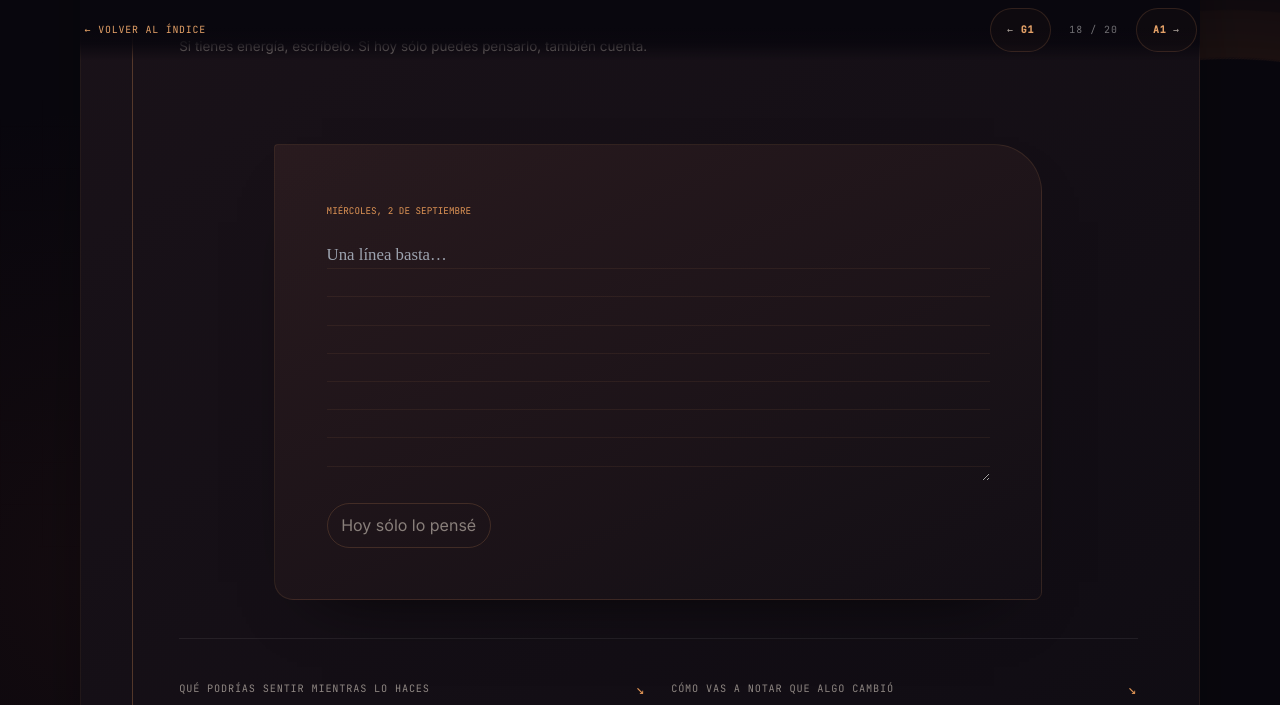
Scenario: cuaderno de trabajo › guarda una respuesta pendiente antes de cambiar de ejercicio
This screenshot has width=1280, height=705.
(page scrolled)
Step 1. Type "No perder esta idea" into the text box named "¿Qué necesito recordar de hoy?" → (658, 361), box 327,241 -> 990,481
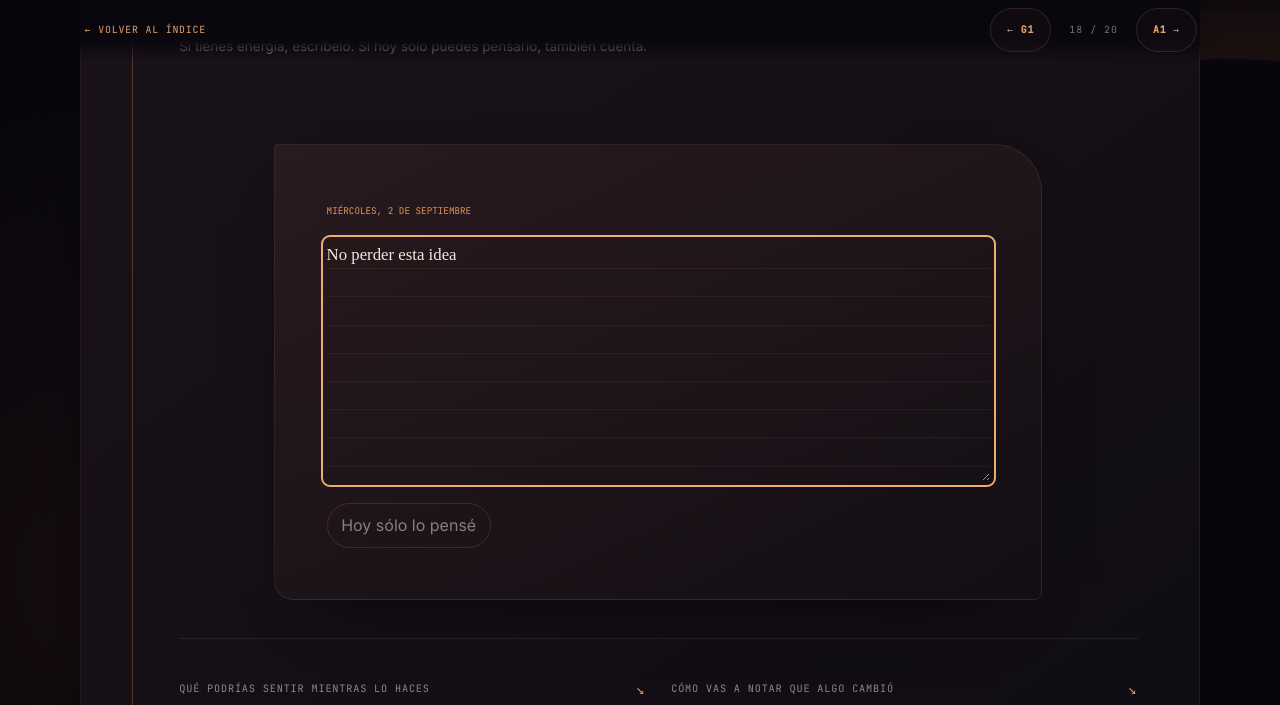
Step 2. Click the button named "ejercicio siguiente: A1" → (1166, 30), box 1136,8 -> 1197,52
(page scrolled)
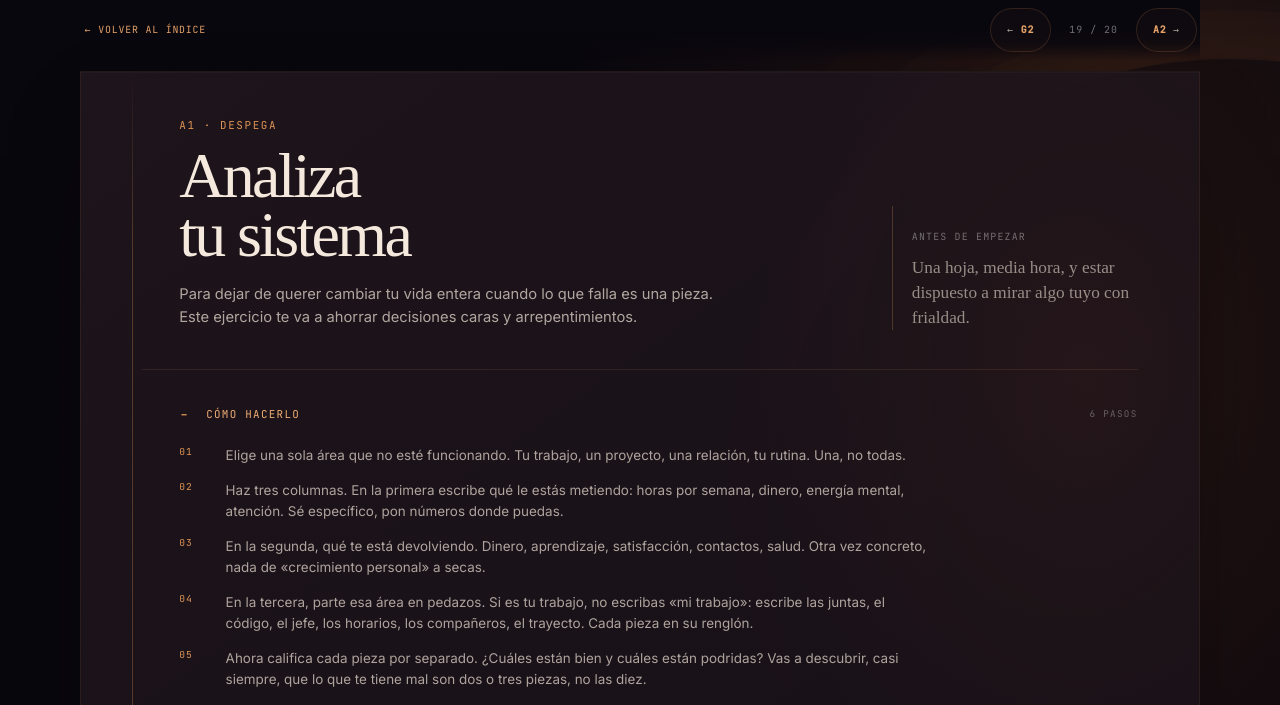
Step 3. Click the button named "ejercicio anterior: G2" → (1021, 30), box 990,8 -> 1051,52
(page scrolled)
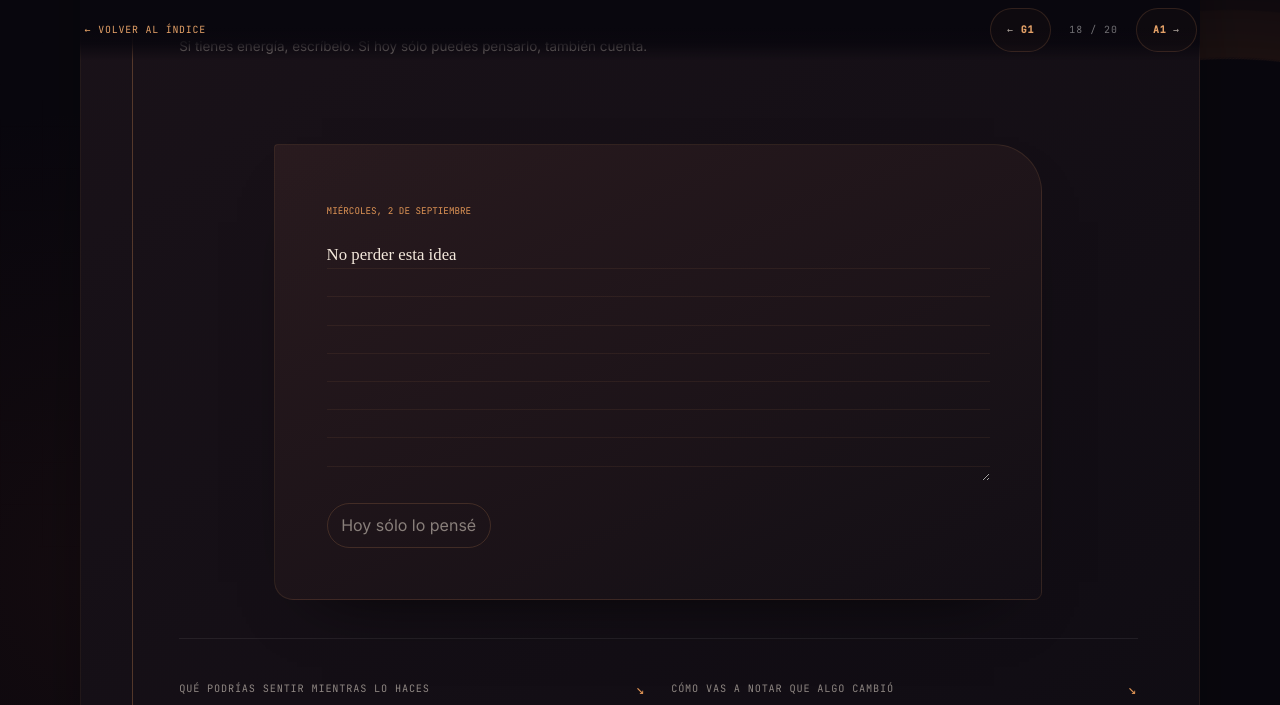
Result: the text box named "¿Qué necesito recordar de hoy?" holds "No perder esta idea" at 327,241 -> 990,481
